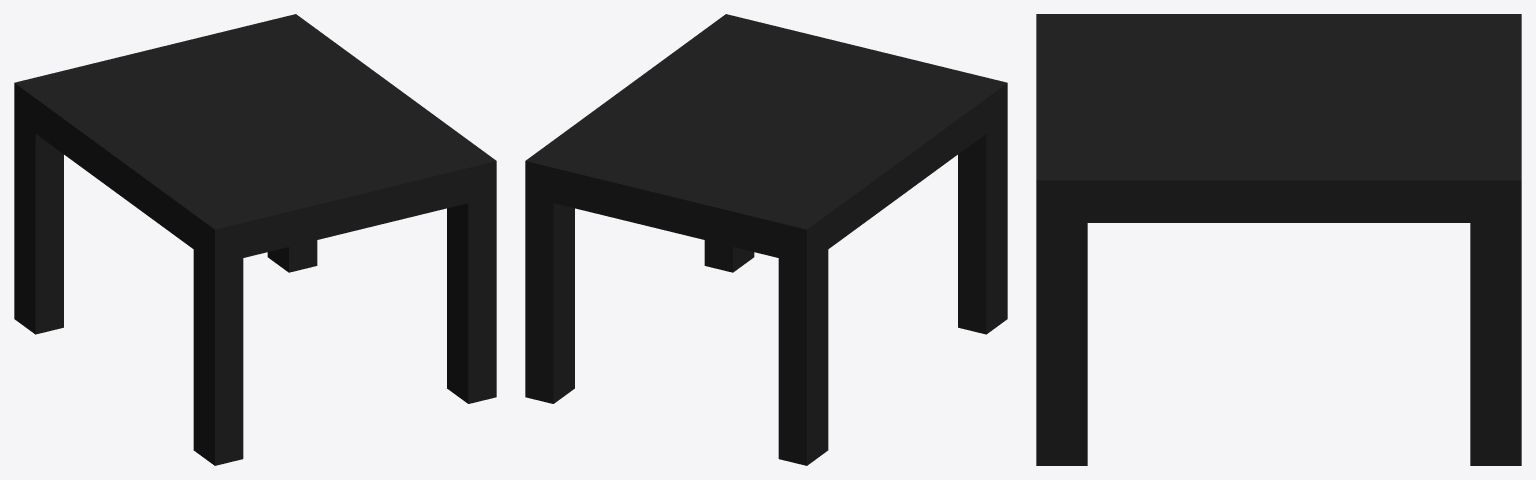
File: mesa.glb
The picture shows the model from 3 angles, left to right: view 1: azimuth 30°, elevation 25°; view 2: azimuth 150°, elevation 25°; view 3: azimuth 270°, elevation 25°; orthographic projection. The views are drawn at different scales.
Visible parts, largest first — view 1: Cube.013; view 2: Cube.013; view 3: Cube.013.
Boxes of the visible parts, bbox=[...] form: Cube.013: bbox=[14, 14, 496, 465]; Cube.013: bbox=[525, 14, 1007, 465]; Cube.013: bbox=[1036, 14, 1521, 465].
Size of the model in its own units: 0.6567 by 0.5263 by 0.8104.
Materials: 1 (1 with a texture image).
